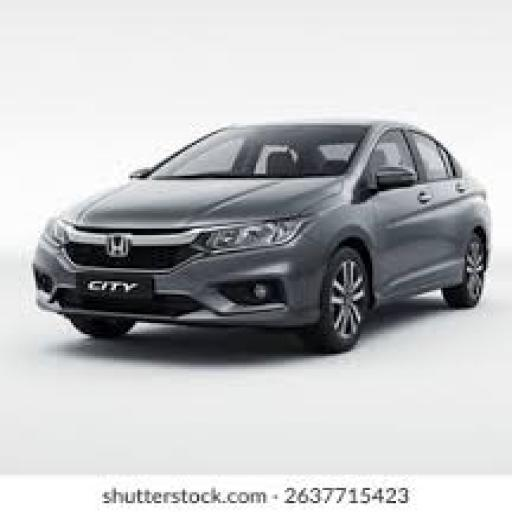License: (74, 265, 164, 306)
